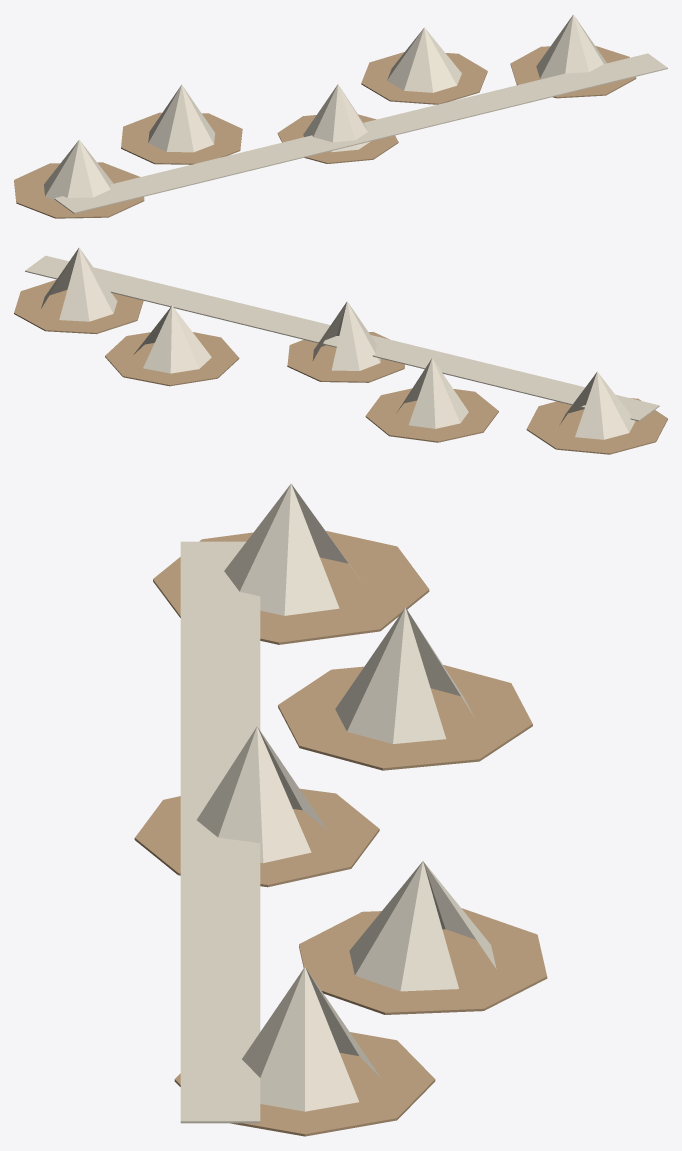
File: glamping-creek.lod1.glb
3 views of the same model, one above another, from view 1: azimuth 30°, elevation 25°; view 2: azimuth 150°, elevation 25°; view 3: azimuth 270°, elevation 25° (orthographic). The views are drawn at different scales.
Size of the model in its own units: 44.97 by 4.04 by 12.93.
